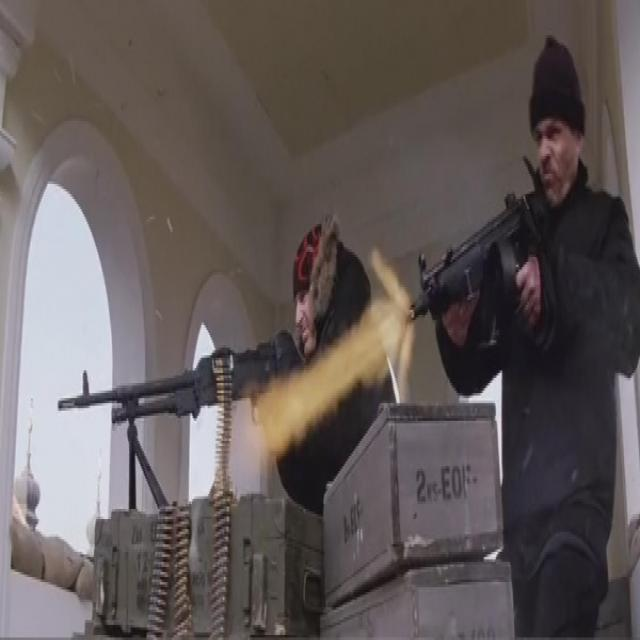rifle: (57, 328, 308, 518), (402, 190, 552, 353)
